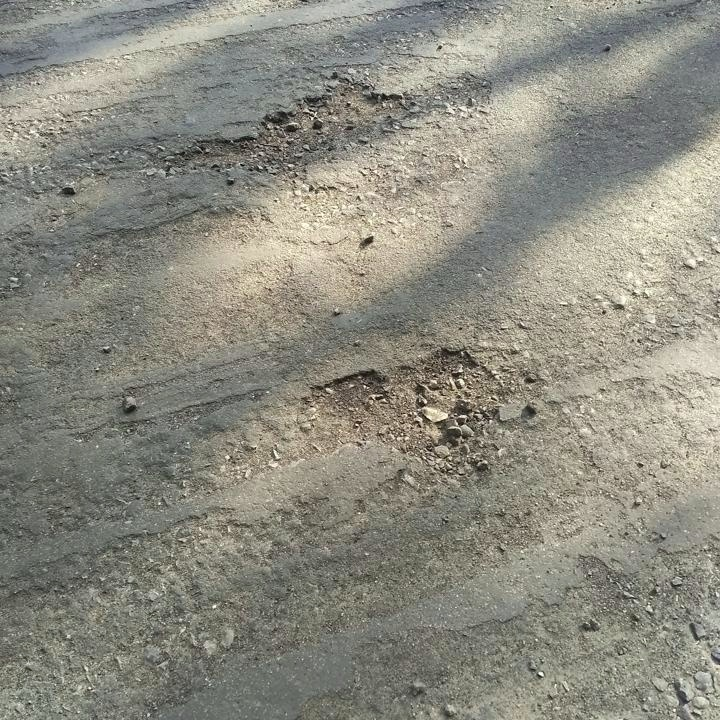pothole: (302, 339, 503, 486), (163, 73, 418, 187)
